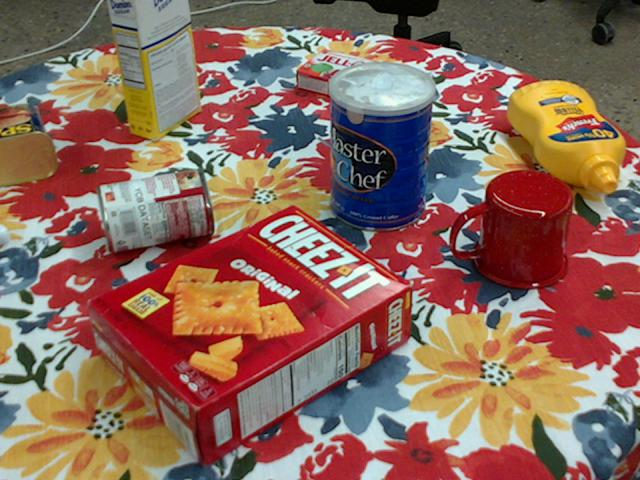cracker_box: (85, 207, 409, 467)
gelatin_box: (293, 51, 379, 104)
large_marker: (0, 224, 9, 243)
master_chef_can: (328, 62, 434, 233)
mug: (451, 170, 572, 290)
mustard_bottle: (505, 80, 623, 192)
potted_meat_can: (0, 103, 56, 186)
sugar_box: (108, 0, 200, 138)
tomato_soup_can: (94, 167, 212, 252)
tuna_fish_can: (344, 96, 417, 154)
